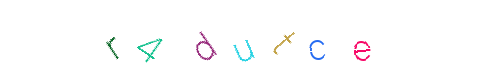4: (165, 0, 245, 80)
C: (243, 0, 323, 80)
D: (170, 0, 250, 80)
E: (321, 0, 401, 80)
R: (95, 0, 175, 80)
T: (231, 0, 311, 80)
U: (202, 0, 282, 80)
